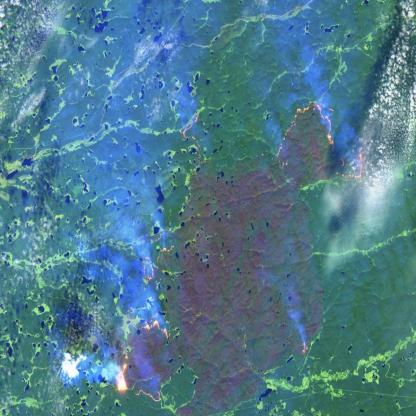fire: (274, 98, 364, 182), (114, 316, 169, 404), (141, 241, 177, 285), (178, 107, 203, 142), (299, 335, 312, 358)
